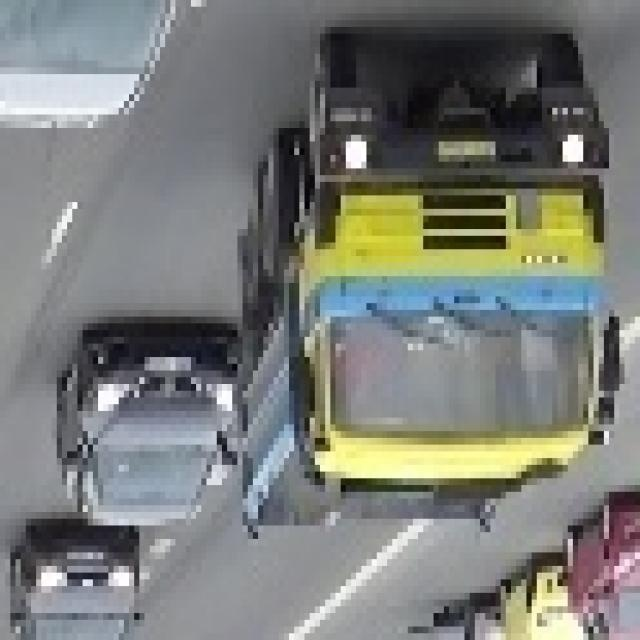Truck: (226, 33, 620, 546)
